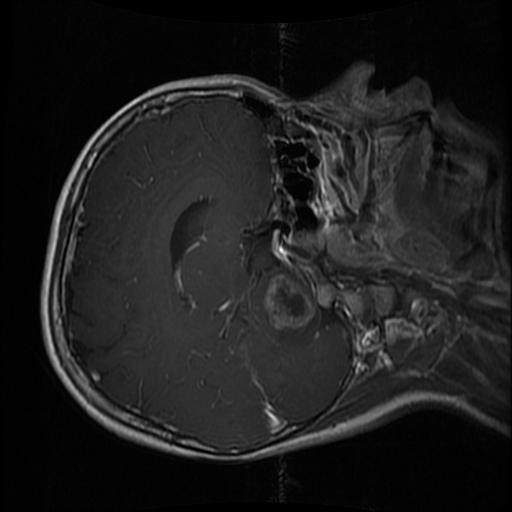glioma: (266, 272, 313, 331)
